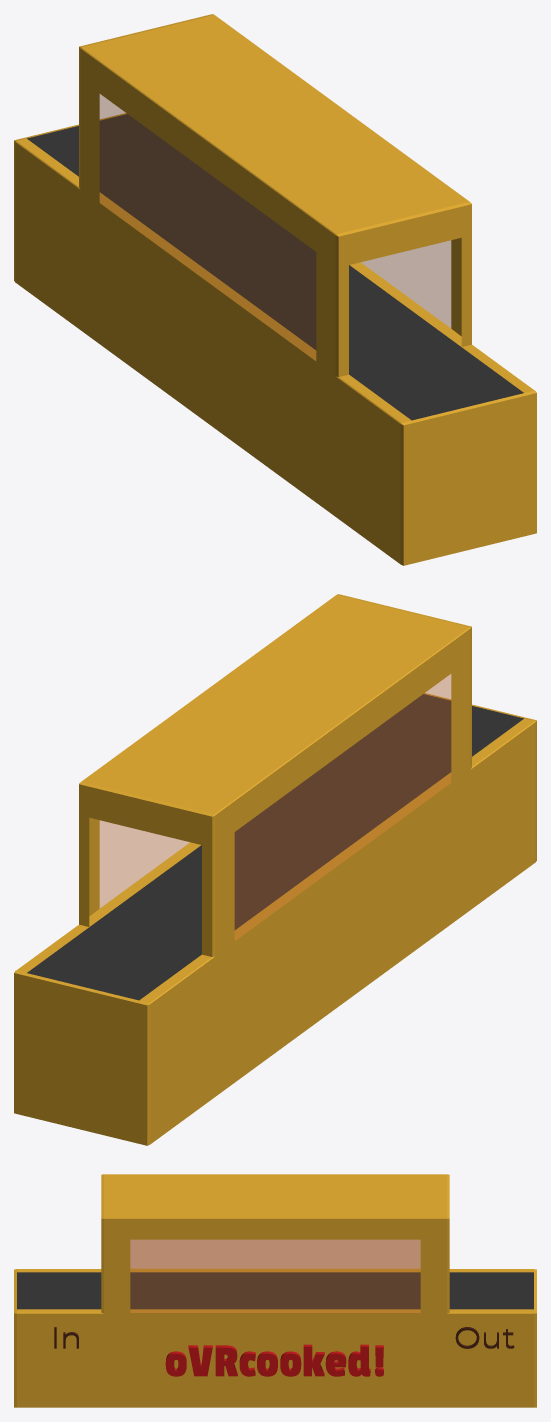
File: Oven.glb
The picture shows the model from 3 angles, top to bottom: view 1: azimuth 30°, elevation 25°; view 2: azimuth 150°, elevation 25°; view 3: azimuth 270°, elevation 25°; orthographic projection. The views are drawn at different scales.
Parts seen in each view (by area): view 1: Oven; view 2: Oven; view 3: Oven.
Boxes of the visible parts, x1,y1,x2,y2 form: Oven: (14, 14, 536, 565); Oven: (14, 594, 536, 1145); Oven: (14, 1174, 536, 1407).
Bounding box in the file's own units: 2.12 × 4 × 10.
